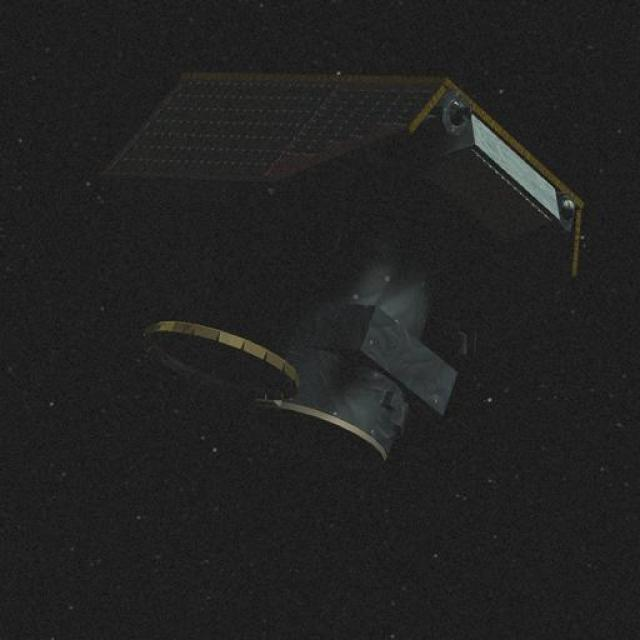cheops: (130, 62, 591, 432)
